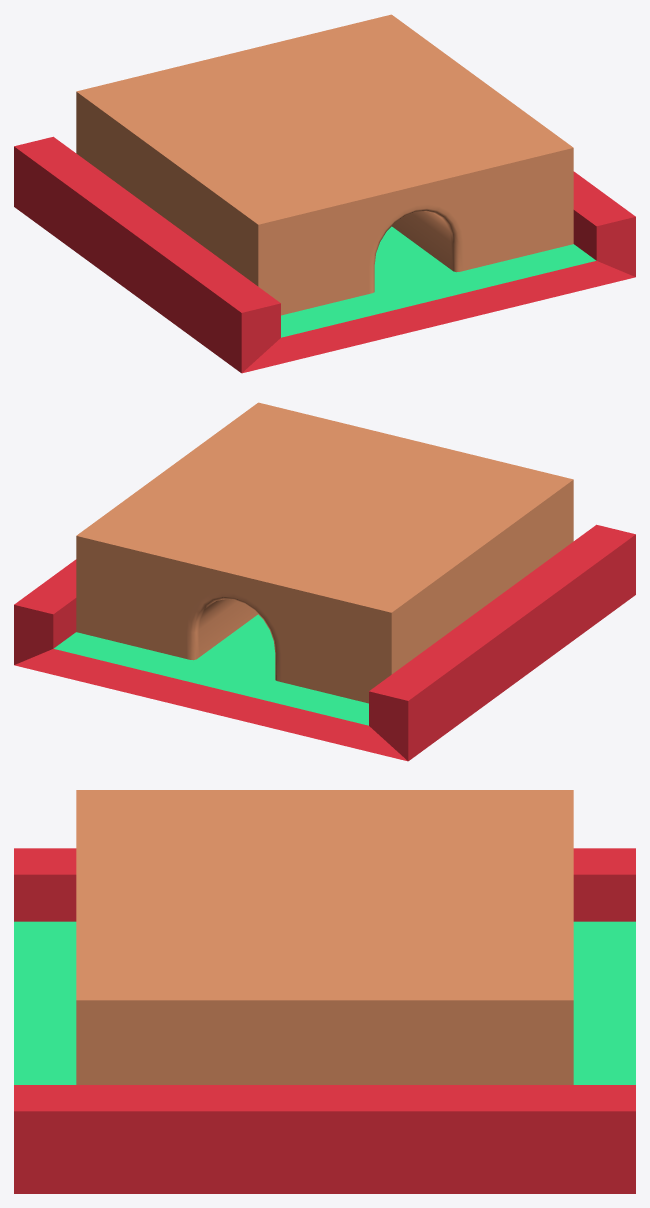
File: tunnelNarrow.fbx
The picture shows the model from 3 angles, top to bottom: view 1: azimuth 30°, elevation 25°; view 2: azimuth 150°, elevation 25°; view 3: azimuth 270°, elevation 25°; orthographic projection. The views are drawn at different scales.
Visible parts, largest first — view 1: tunnelNarrow; view 2: tunnelNarrow; view 3: tunnelNarrow.
Part boxes in pixels (bbox=[...]): tunnelNarrow: bbox=[14, 14, 635, 373]; tunnelNarrow: bbox=[14, 402, 635, 761]; tunnelNarrow: bbox=[14, 790, 635, 1193].
Size of the model in its own units: 99.99 by 99.99 by 29.66.
